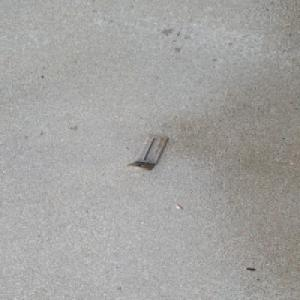MetalPart: (124, 134, 168, 170)
